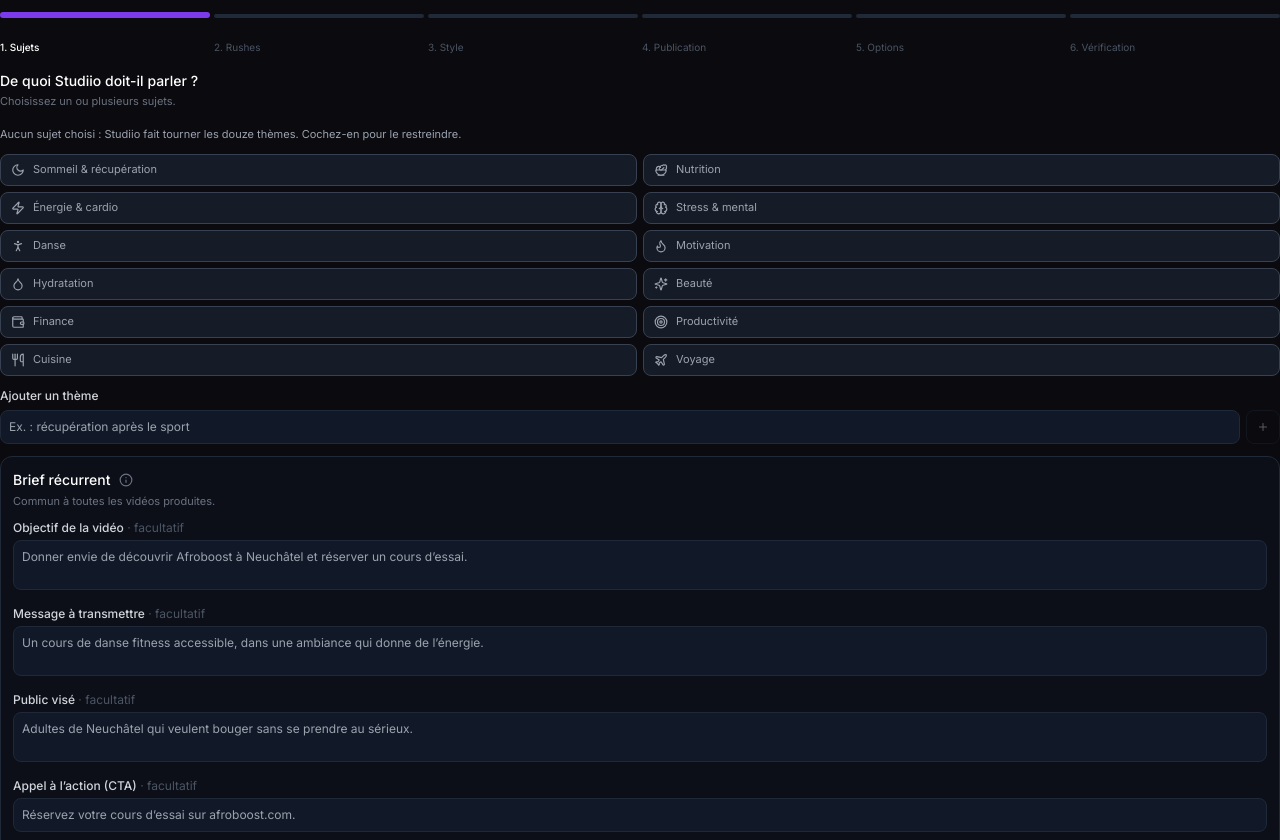
Test: La date de début › un champ `date`, vide = dès le prochain passage ; une date saisie part en PUT `startDate`
Check: the text "De quoi Studiio doit-il parler ?" is shown, box [0,72,198,89]
Click the button named "Publication" at (747, 16), box [642,14,852,18]
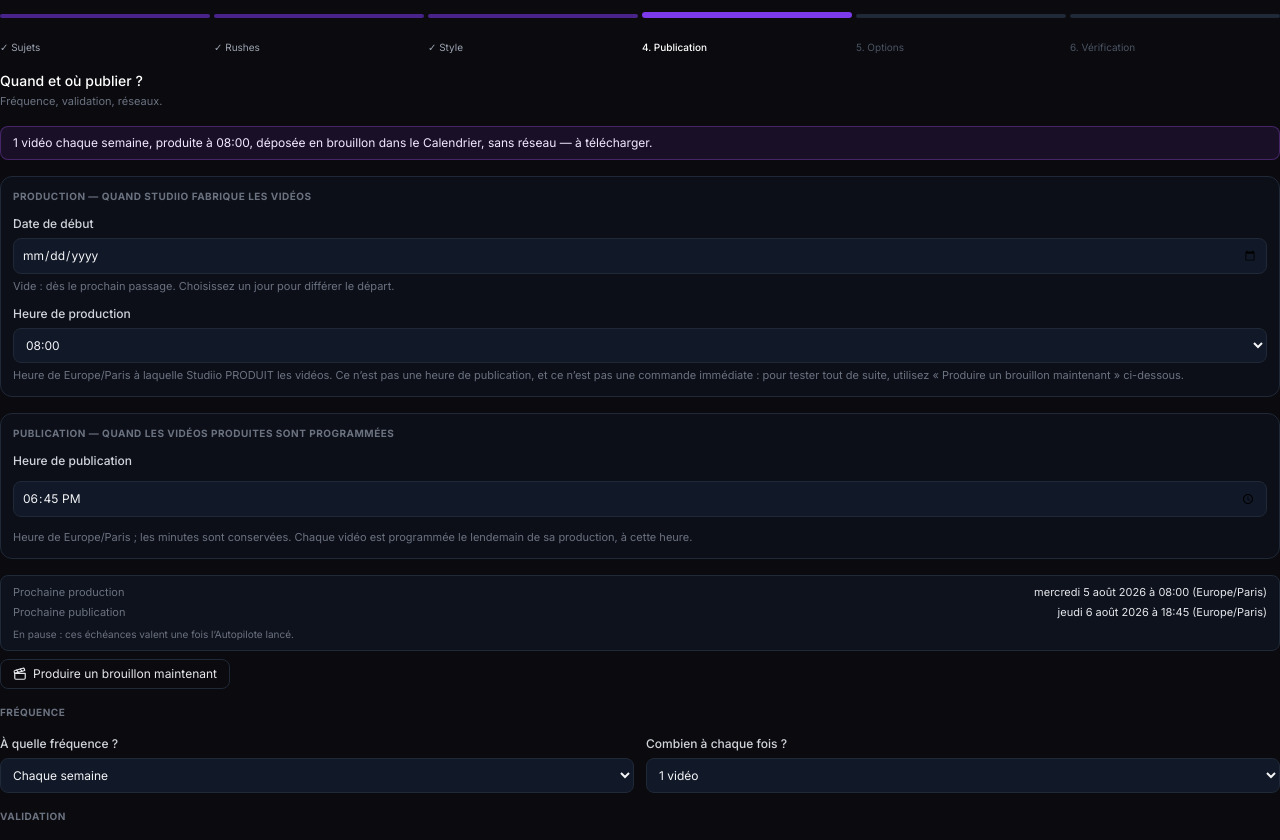
Check: the element that starts with "Prochaine production" is shown, box [0,575,1279,651]
Check: the date field labelled "Date de début" is empty
Check: the text "dès le prochain passage" is shown, box [13,278,394,292]
Type "2026-10-05" into the date field labelled "Date de début" at (640, 256), box [13,238,1267,274]
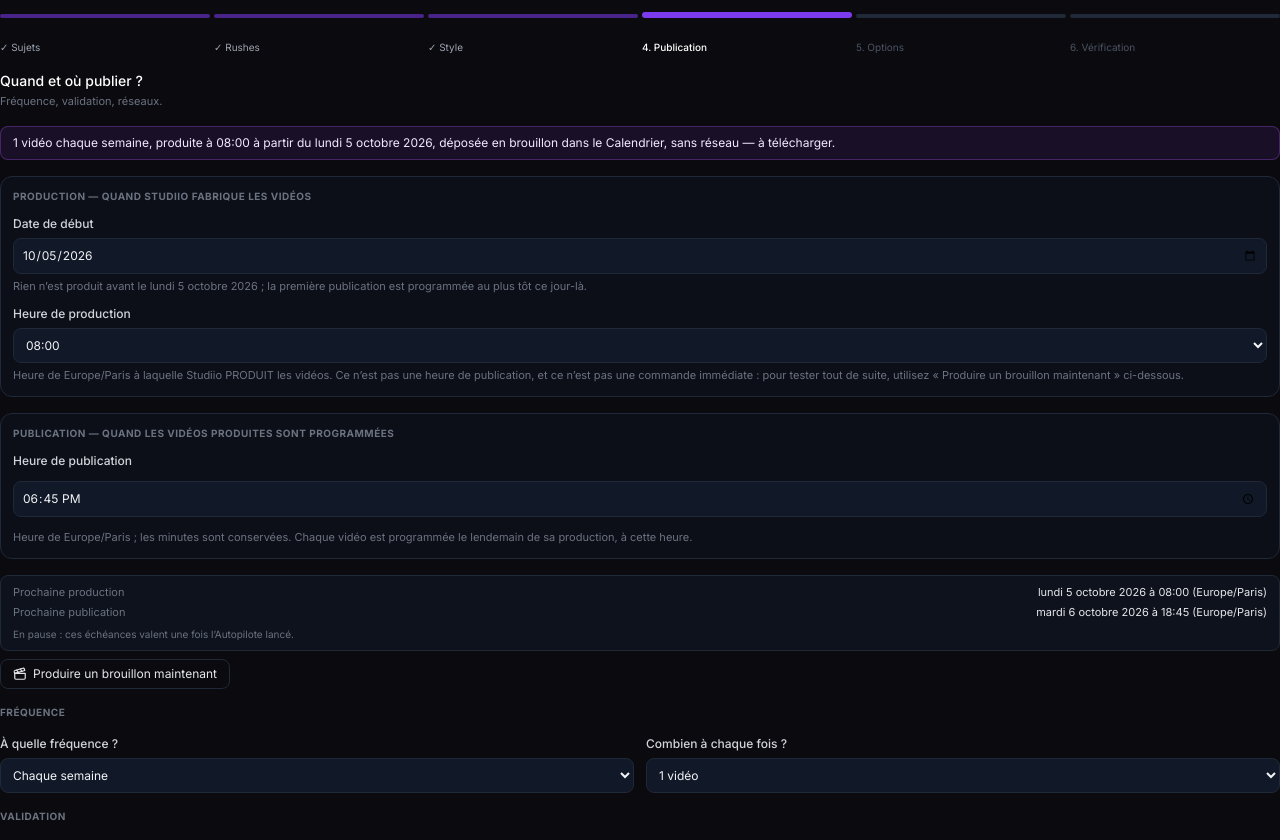
Check: the text "lundi 5 octobre 2026" is shown, box [13,278,587,292]
